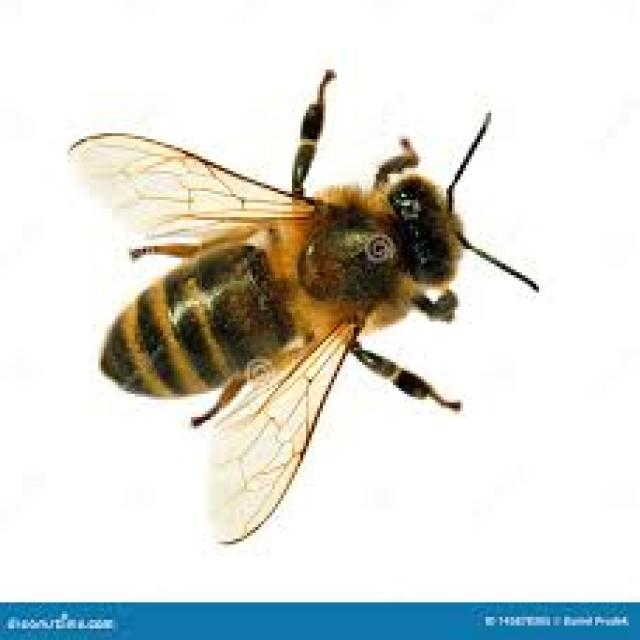Bees: (68, 66, 542, 547)
